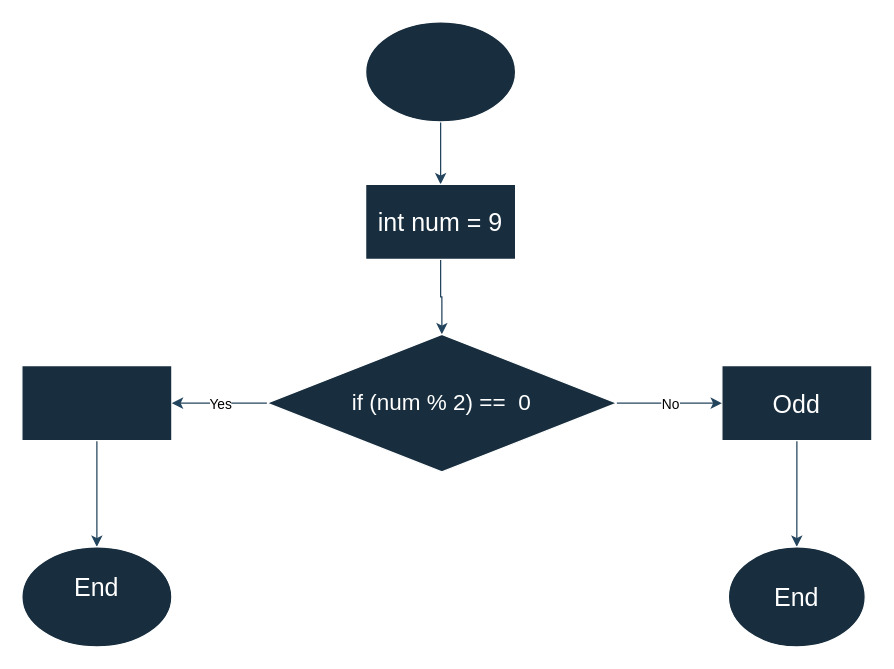
Image size: 894x669. Some labels were removed from this diagram. The shapes that lost their labels are listed below. From the top down, each one's centre as x and y in pixels, then its label:
point (440, 71): Start
point (96, 402): Even
